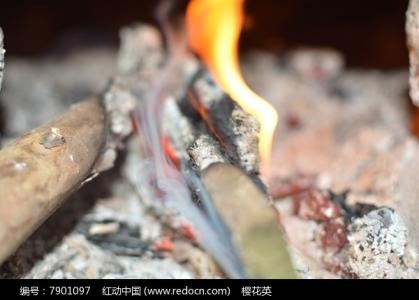fire: (180, 2, 276, 149)
